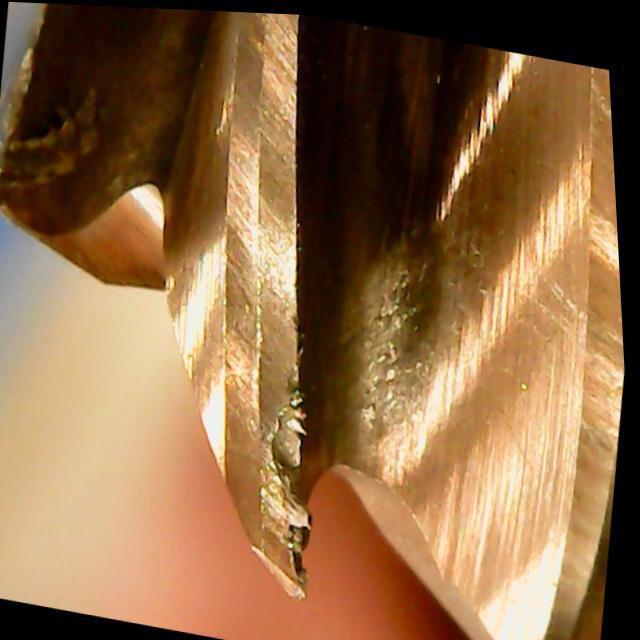Tool-wear-class-2: (176, 372, 355, 604)
